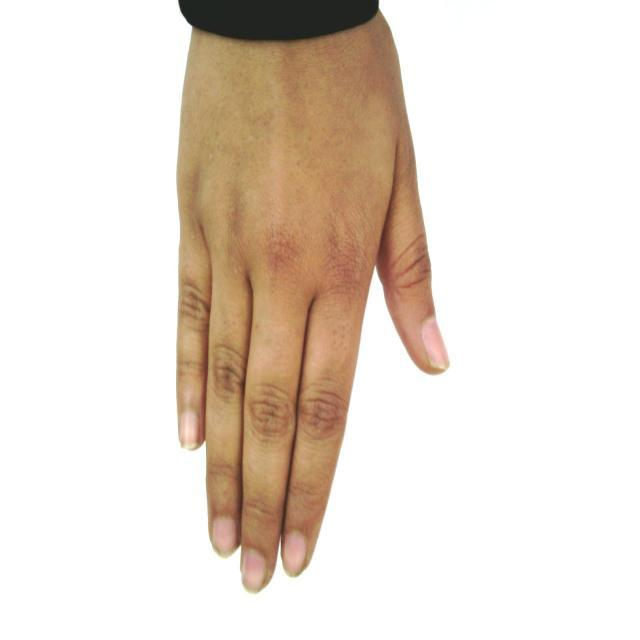Fingernail: (423, 317, 449, 369), (283, 531, 305, 577), (214, 518, 238, 556), (244, 551, 266, 592), (181, 411, 200, 448)
